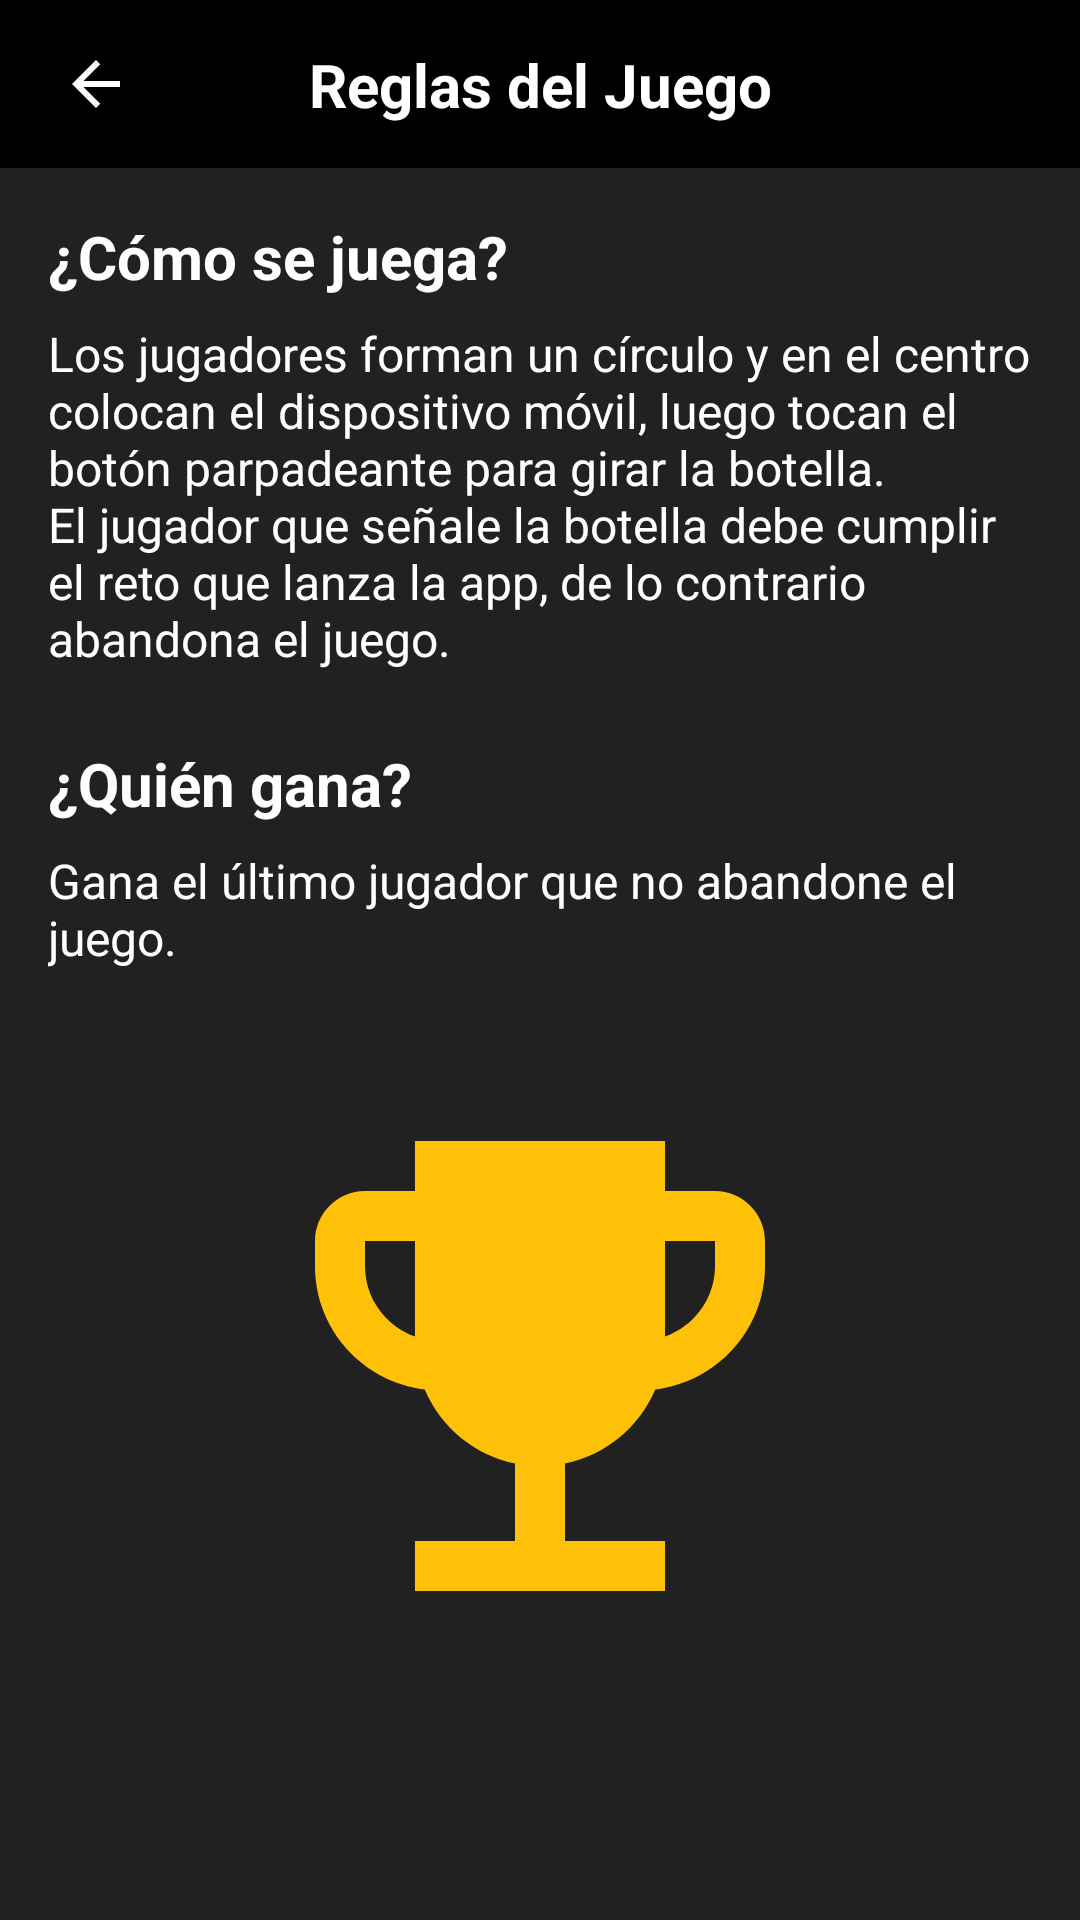

Icon bounding boxes for this 1080w x 1920h phone screenshot, format (x1, y1, x2, y2):
Volver al Home: (72, 60, 120, 108)
